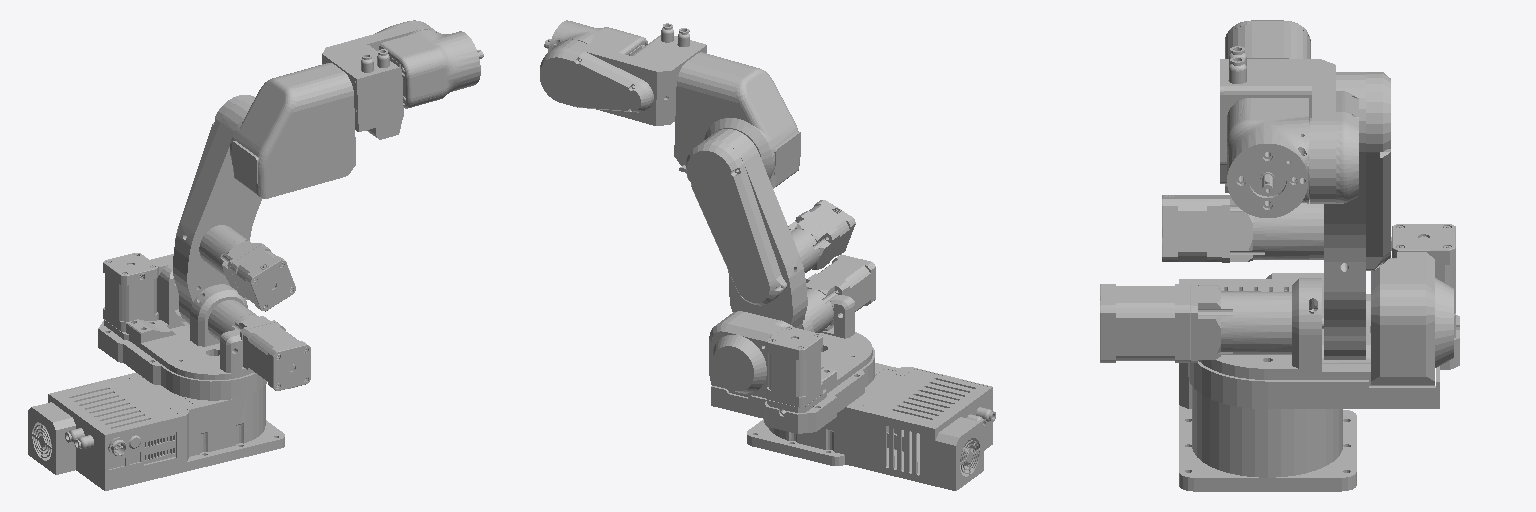
URDF robot description (parol6):
<?xml version="1.0" encoding="utf-8"?>
<!-- This URDF was automatically created by SolidWorks to URDF Exporter! Originally created by [author] ([email redacted])
     Commit Version: 1.6.0-4-g7f85cfe  Build Version: 1.6.7995.38578
     For more information, please see http://wiki.ros.org/sw_urdf_exporter -->
<robot
  name="parol6">

  <link name="world"/>
  <joint name="base_joint" type="fixed">
    <parent link="world"/>
    <child link="base_link"/>
    <origin rpy="0 0 0" xyz="0.0 0.0 0.00"/>
  </joint>


  <link
    name="base_link">
    <inertial>
      <origin
        xyz="-0.0274562034602567 -0.00137265400595656 0.031237920982338"
        rpy="0 0 0" />
      <mass
        value="0.812661291810144" />
      <inertia
        ixx="0.00110740279540382"
        ixy="4.67463481205112E-05"
        ixz="8.47873933528831E-06"
        iyy="0.00106582362830227"
        iyz="-2.6194130573118E-06"
        izz="0.00147883396699374" />
    </inertial>
    <visual>
      <origin
        xyz="0 0 0"
        rpy="0 0 0" />
      <geometry>
        <mesh
          filename="package://parol6/meshes/base_link.STL" />
      </geometry>
      <material
        name="">
        <color
          rgba="0.752941176470588 0.752941176470588 0.752941176470588 1" />
      </material>
    </visual>
    <collision>
      <origin
        xyz="0 0 0"
        rpy="0 0 0" />
      <geometry>
        <mesh
          filename="package://parol6/meshes/base_link.STL" />
      </geometry>
    </collision>
  </link>
  <link
    name="L1">
    <inertial>
      <origin
        xyz="0.00524529891406311 0.0289722820784871 0.0992791429452917"
        rpy="0 0 0" />
      <mass
        value="0.644800830530233" />
      <inertia
        ixx="0.00109429409029172"
        ixy="-6.27156874097953E-05"
        ixz="-5.70466862844753E-05"
        iyy="0.00056996197700816"
        iyz="-0.000121686402940313"
        izz="0.00129487722474286" />
    </inertial>
    <visual>
      <origin
        xyz="0 0 0"
        rpy="0 0 0" />
      <geometry>
        <mesh
          filename="package://parol6/meshes/L1.STL" />
      </geometry>
      <material
        name="">
        <color
          rgba="0.752941176470588 0.752941176470588 0.752941176470588 1" />
      </material>
    </visual>
    <collision>
      <origin
        xyz="0 0 0"
        rpy="0 0 0" />
      <geometry>
        <mesh
          filename="package://parol6/meshes/L1.STL" />
      </geometry>
    </collision>
  </link>
  <joint
    name="L1"
    type="revolute">
    <origin
      xyz="0 0 0.1105"
      rpy="0 0 0" />
    <parent
      link="base_link" />
    <child
      link="L1" />
    <axis
      xyz="0 0 1" />
    <limit
      lower="-2.1475731"
      upper="2.1475731"
      effort="300"
      velocity="3" />
  </joint>
  <link
    name="L2">
    <inertial>
      <origin
        xyz="-0.0094181617193695 -0.0783879603613605 0.0369429741417731"
        rpy="0 0 0" />
      <mass
        value="0.512334779399788" />
      <inertia
        ixx="0.00123357482646866"
        ixy="3.63236238096924E-06"
        ixz="-3.30834557934783E-07"
        iyy="0.000205462733796053"
        iyz="4.86441772103282E-07"
        izz="0.00132225033266162" />
    </inertial>
    <visual>
      <origin
        xyz="0 0 0"
        rpy="0 0 0" />
      <geometry>
        <mesh
          filename="package://parol6/meshes/L2.STL" />
      </geometry>
      <material
        name="">
        <color
          rgba="0.752941176470588 0.752941176470588 0.752941176470588 1" />
      </material>
    </visual>
    <collision>
      <origin
        xyz="0 0 0"
        rpy="0 0 0" />
      <geometry>
        <mesh
          filename="package://parol6/meshes/L2.STL" />
      </geometry>
    </collision>
  </link>
  <joint
    name="L2"
    type="revolute">
    <origin
      xyz="0.0234207210610375 0 0"
      rpy="-1.5707963267949 0 0" />
    <parent
      link="L1" />
    <child
      link="L2" />
    <axis
      xyz="0 0 1" />
    <limit
      lower="-2.530881"
      upper="-0.05890486"
      effort="300"
      velocity="3" />
  </joint>
  <link
    name="L3">
    <inertial>
      <origin
        xyz="0.0155509885239593 -0.0191127686426613 -0.00153322577917236"
        rpy="0 0 0" />
      <mass
        value="0.550970997806044" />
      <inertia
        ixx="0.00057827573271994"
        ixy="0.000116505232322314"
        ixz="-1.19955293256513E-05"
        iyy="0.000567011676944701"
        iyz="1.55814255036021E-05"
        izz="0.000815862001506843" />
    </inertial>
    <visual>
      <origin
        xyz="0 0 0"
        rpy="0 0 0" />
      <geometry>
        <mesh
          filename="package://parol6/meshes/L3.STL" />
      </geometry>
      <material
        name="">
        <color
          rgba="0.752941176470588 0.752941176470588 0.752941176470588 1" />
      </material>
    </visual>
    <collision>
      <origin
        xyz="0 0 0"
        rpy="0 0 0" />
      <geometry>
        <mesh
          filename="package://parol6/meshes/L3.STL" />
      </geometry>
    </collision>
  </link>
  <joint
    name="L3"
    type="revolute">
    <origin
      xyz="0.18 0 0"
      rpy="3.14159265358979 0 0" />
    <parent
      link="L2" />
    <child
      link="L3" />
    <axis
      xyz="0 0 1" />
    <limit
      lower="1.88261685"
      upper="5.02423568"
      effort="300"
      velocity="3" />
  </joint>
  <link
    name="L4">
    <inertial>
      <origin
        xyz="0.000947028430634433 -0.008978947112462 -0.0924798659827059"
        rpy="0 0 0" />
      <mass
        value="0.39346362633915" />
      <inertia
        ixx="0.000371672516830215"
        ixy="-1.05560000666389E-05"
        ixz="-1.56899445418326E-07"
        iyy="0.000332364226344361"
        iyz="-6.10397110934672E-05"
        izz="0.000250606789571909" />
    </inertial>
    <visual>
      <origin
        xyz="0 0 0"
        rpy="0 0 0" />
      <geometry>
        <mesh
          filename="package://parol6/meshes/L4.STL" />
      </geometry>
      <material
        name="">
        <color
          rgba="0.752941176470588 0.752941176470588 0.752941176470588 1" />
      </material>
    </visual>
    <collision>
      <origin
        xyz="0 0 0"
        rpy="0 0 0" />
      <geometry>
        <mesh
          filename="package://parol6/meshes/L4.STL" />
      </geometry>
    </collision>
  </link>
  <joint
    name="L4"
    type="revolute">
    <origin
      xyz="-0.0435 0.17635 0"
      rpy="1.5707963267949 0 0" />
    <parent
      link="L3" />
    <child
      link="L4" />
    <axis
      xyz="0 0 1" />
    <limit
      lower="-1.8407944"
      upper="1.8407944"
      effort="300"
      velocity="3" />
  </joint>
  <link
    name="L5">
    <inertial>
      <origin
        xyz="6.7162171684676E-06 -0.00621420980825221 -0.000960871025916146"
        rpy="0 0 0" />
      <mass
        value="0.185171777001718" />
      <inertia
        ixx="0.000109176748460021"
        ixy="-1.27195013439061E-07"
        ixz="8.4436049148633E-08"
        iyy="8.41307588934268E-05"
        iyz="-4.41596193640049E-07"
        izz="0.000110629136236229" />
    </inertial>
    <visual>
      <origin
        xyz="0 0 0"
        rpy="0 0 0" />
      <geometry>
        <mesh
          filename="package://parol6/meshes/L5.STL" />
      </geometry>
      <material
        name="">
        <color
          rgba="0.752941176470588 0.752941176470588 0.752941176470588 1" />
      </material>
    </visual>
    <collision>
      <origin
        xyz="0 0 0"
        rpy="0 0 0" />
      <geometry>
        <mesh
          filename="package://parol6/meshes/L5.STL" />
      </geometry>
    </collision>
  </link>
  <joint
    name="L5"
    type="revolute">
    <origin
      xyz="0 0 0"
      rpy="-1.5707963267949 0 0" />
    <parent
      link="L4" />
    <child
      link="L5" />
    <axis
      xyz="0 0 1" />
    <limit
      lower="-1.57079633"
      upper="1.57079633"
      effort="300"
      velocity="3" />
  </joint>
  <link
    name="L6">
    <inertial>
      <origin
        xyz="0.00632955087228015 -0.000453856352095022 -0.0554441567386594"
        rpy="0 0 0" />
      <mass
        value="0.0703261410665101" />
      <inertia
        ixx="1.40276237518287E-05"
        ixy="3.15503246005279E-07"
        ixz="-9.28469598788221E-07"
        iyy="1.81406721166117E-05"
        iyz="-9.43630009030796E-07"
        izz="2.34608103291027E-05" />
    </inertial>
    <visual>
      <origin
        xyz="0 0 0"
        rpy="0 0 0" />
      <geometry>
        <mesh
          filename="package://parol6/meshes/L6.STL" />
      </geometry>
      <material
        name="">
        <color
          rgba="0.752941176470588 0.752941176470588 0.752941176470588 1" />
      </material>
    </visual>
    <collision>
      <origin
        xyz="0 0 0"
        rpy="0 0 0" />
      <geometry>
        <mesh
          filename="package://parol6/meshes/L6.STL" />
      </geometry>
    </collision>
  </link>
  <joint
    name="L6"
    type="revolute">
    <origin
      xyz="0 0.0628 0"
      rpy="1.5707963267949 0 0" />
    <parent
      link="L5" />
    <child
      link="L6" />
    <axis
      xyz="0 0 1" />
    <limit
      lower="0.0"
      upper="6.28318531"
      effort="300"
      velocity="3" />
  </joint>


  <transmission name="TRANS_L1">
    <type>transmission_interface/SimpleTransmission</type>
    <joint name="L1">

    <hardwareInterface>hardware_interface/PositionJointInterface</hardwareInterface>
    </joint>
    <actuator name="ACT_L1">

    <hardwareInterface>hardware_interface/PositionJointInterface</hardwareInterface>
    <mechanicalReduction>1</mechanicalReduction>
    </actuator>
  </transmission>

  <transmission name="TRANS_L2">
    <type>transmission_interface/SimpleTransmission</type>
    <joint name="L2">

    <hardwareInterface>hardware_interface/PositionJointInterface</hardwareInterface>
    </joint>
    <actuator name="ACT_L2">

    <hardwareInterface>hardware_interface/PositionJointInterface</hardwareInterface>
    <mechanicalReduction>1</mechanicalReduction>
    </actuator>
  </transmission>

  <transmission name="TRANS_L3">
    <type>transmission_interface/SimpleTransmission</type>
    <joint name="L3">

    <hardwareInterface>hardware_interface/PositionJointInterface</hardwareInterface>
    </joint>
    <actuator name="ACT_L3">

    <hardwareInterface>hardware_interface/PositionJointInterface</hardwareInterface>
    <mechanicalReduction>1</mechanicalReduction>
    </actuator>
  </transmission>

  <transmission name="TRANS_L4">
    <type>transmission_interface/SimpleTransmission</type>
    <joint name="L4">

    <hardwareInterface>hardware_interface/PositionJointInterface</hardwareInterface>
    </joint>
    <actuator name="ACT_L4">

    <hardwareInterface>hardware_interface/PositionJointInterface</hardwareInterface>
    <mechanicalReduction>1</mechanicalReduction>
    </actuator>
  </transmission>

  <transmission name="TRANS_L5">
    <type>transmission_interface/SimpleTransmission</type>
    <joint name="L5">

    <hardwareInterface>hardware_interface/PositionJointInterface</hardwareInterface>
    </joint>
    <actuator name="ACT_L5">

    <hardwareInterface>hardware_interface/PositionJointInterface</hardwareInterface>
    <mechanicalReduction>1</mechanicalReduction>
    </actuator>
  </transmission>

  <transmission name="TRANS_L6">
    <type>transmission_interface/SimpleTransmission</type>
    <joint name="L6">

    <hardwareInterface>hardware_interface/PositionJointInterface</hardwareInterface>
    </joint>
    <actuator name="ACT_L6">

    <hardwareInterface>hardware_interface/PositionJointInterface</hardwareInterface>
    <mechanicalReduction>1</mechanicalReduction>
    </actuator>
  </transmission>

  <gazebo>
    <plugin name="control" filename="libgazebo_ros_control.so">
    <robotNamespace>/</robotNamespace>
    </plugin>
  </gazebo>

  <gazebo reference="L1">
    <selfCollide>true</selfCollide>
  </gazebo>

  <gazebo reference="L2">
    <selfCollide>true</selfCollide>
  </gazebo>

  <gazebo reference="L3">
    <selfCollide>true</selfCollide>
  </gazebo>

  <gazebo reference="L4">
    <selfCollide>true</selfCollide>
  </gazebo>

  <gazebo reference="L5">
    <selfCollide>true</selfCollide>
  </gazebo>

  <gazebo reference="L6">
    <selfCollide>true</selfCollide>
  </gazebo>

</robot>

--- Facts derived from the render (not from the file) ---
The picture shows the robot from 3 angles, left to right: view 1: azimuth 30°, elevation 25°; view 2: azimuth 150°, elevation 25°; view 3: azimuth 270°, elevation 25°; orthographic projection.
Robot: parol6 — 8 links, 7 joints (6 revolute, 1 fixed); root link world; default pose: joints at zero except 2 at the middle of their limits (L2 = -1.29, L3 = 3.45).
Visible links, largest first — view 1: base_link, L1, L2, L3, L4, L5; view 2: L2, base_link, L1, L3, L4, L5; view 3: L1, L2, base_link, L4, L5, L3.
Link boxes in pixels (left/top/right/bottom): base_link: left=28, top=373, right=284, bottom=490; L1: left=98, top=253, right=310, bottom=400; L2: left=173, top=95, right=295, bottom=324; L3: left=230, top=63, right=355, bottom=198; L4: left=322, top=20, right=434, bottom=139; L5: left=379, top=29, right=483, bottom=108; L2: left=685, top=129, right=855, bottom=393; base_link: left=747, top=363, right=995, bottom=490; L1: left=709, top=254, right=875, bottom=433; L3: left=674, top=52, right=800, bottom=188; L4: left=540, top=23, right=706, bottom=125; L5: left=544, top=20, right=647, bottom=55; L1: left=1100, top=224, right=1459, bottom=408; L2: left=1162, top=72, right=1453, bottom=367; base_link: left=1179, top=273, right=1356, bottom=491; L4: left=1220, top=46, right=1358, bottom=203; L5: left=1227, top=98, right=1308, bottom=217; L3: left=1225, top=20, right=1310, bottom=192.
Size in the robot's own frame: 0.4757 by 0.2382 by 0.3747 metres.
6 mesh visuals loaded from 7 distinct referenced files (6 binary STL); not drawn: 1 (reference not matched to a file when rendering).